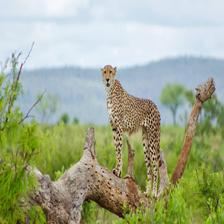Cheetah: (102, 65, 168, 203)
